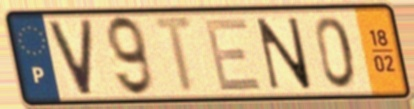0: (313, 15, 358, 90)
9: (104, 13, 156, 99)
E: (201, 15, 265, 94)
N: (254, 14, 315, 92)
T: (149, 14, 200, 97)
V: (45, 17, 95, 98)
